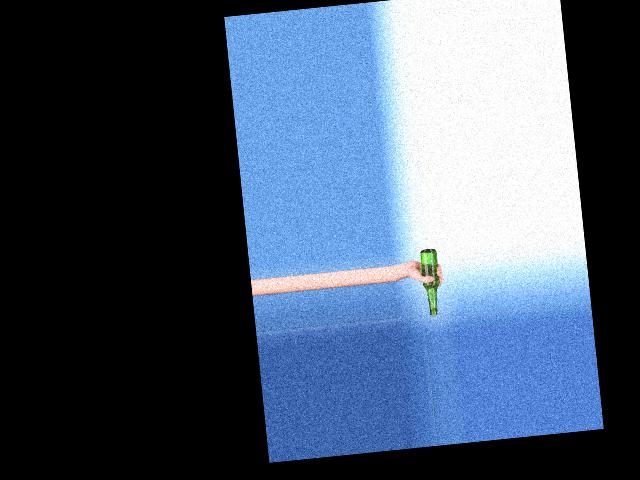beer: (419, 248, 442, 316)
